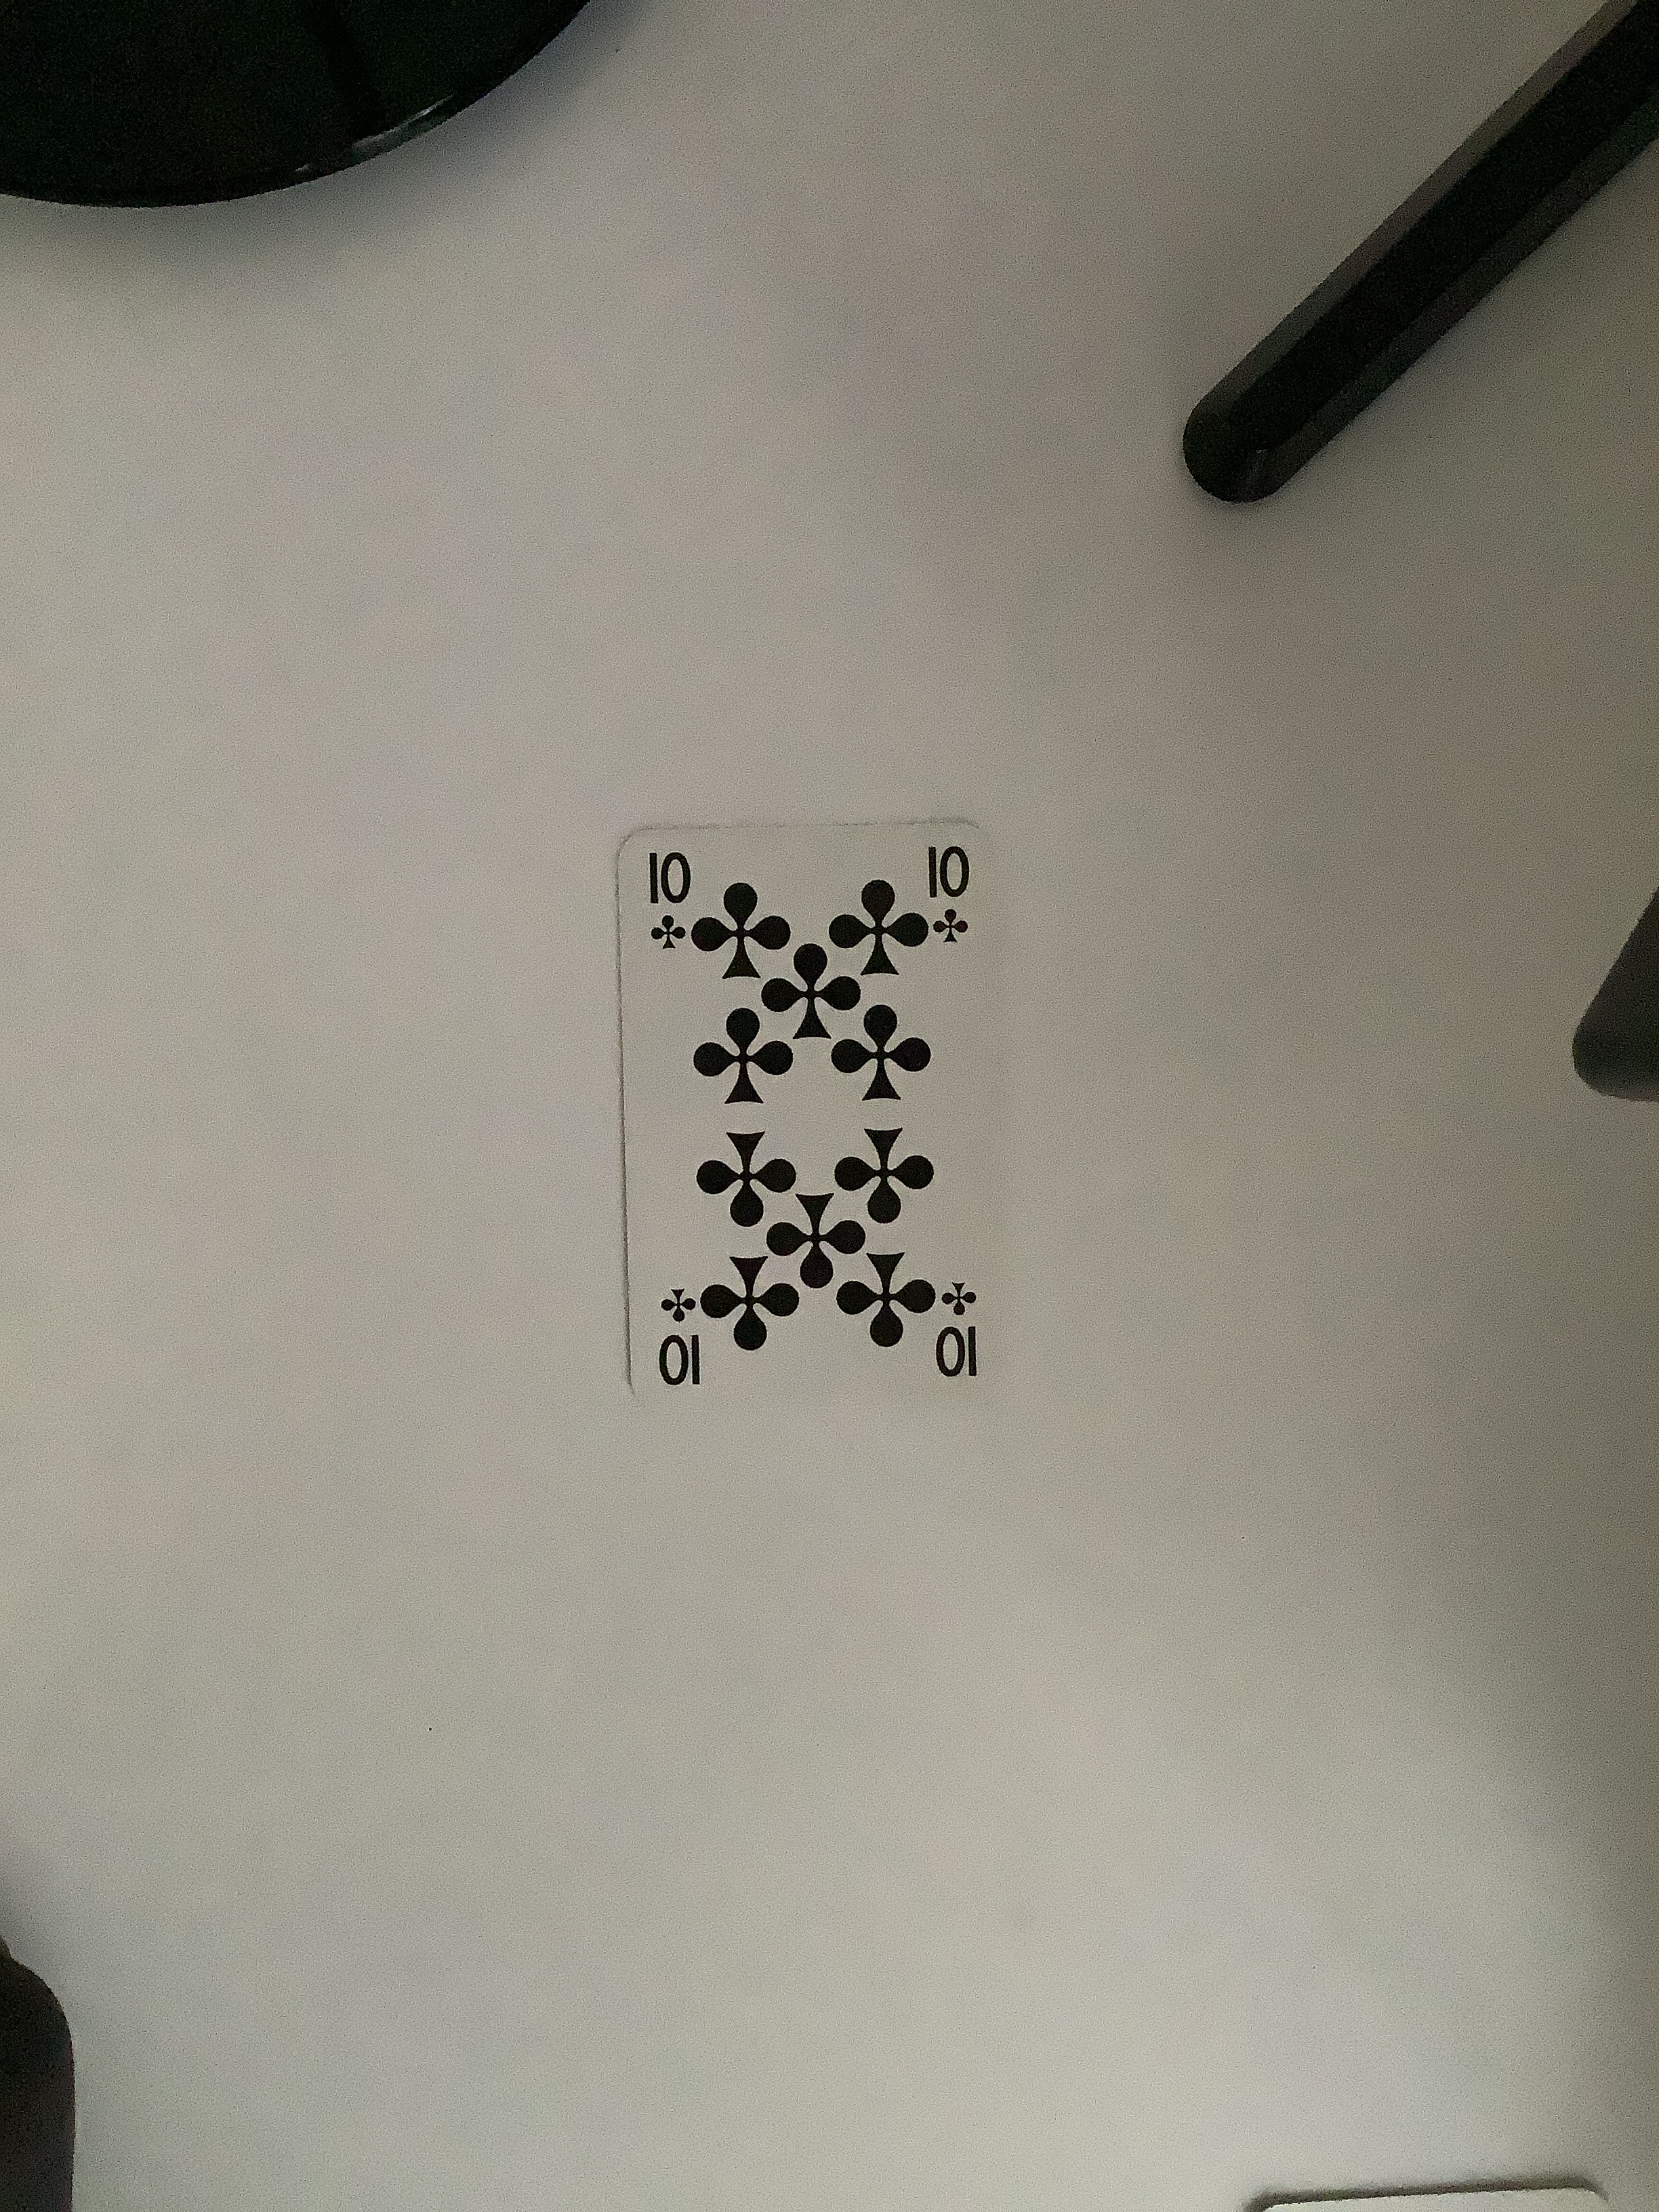♣ 10: (589, 812, 1025, 1439)
